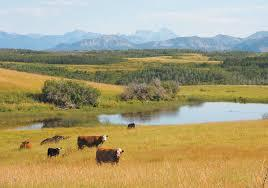cow: (96, 147, 125, 163), (75, 135, 107, 147), (42, 135, 65, 145), (47, 147, 62, 157), (19, 141, 33, 150), (127, 123, 137, 129)
